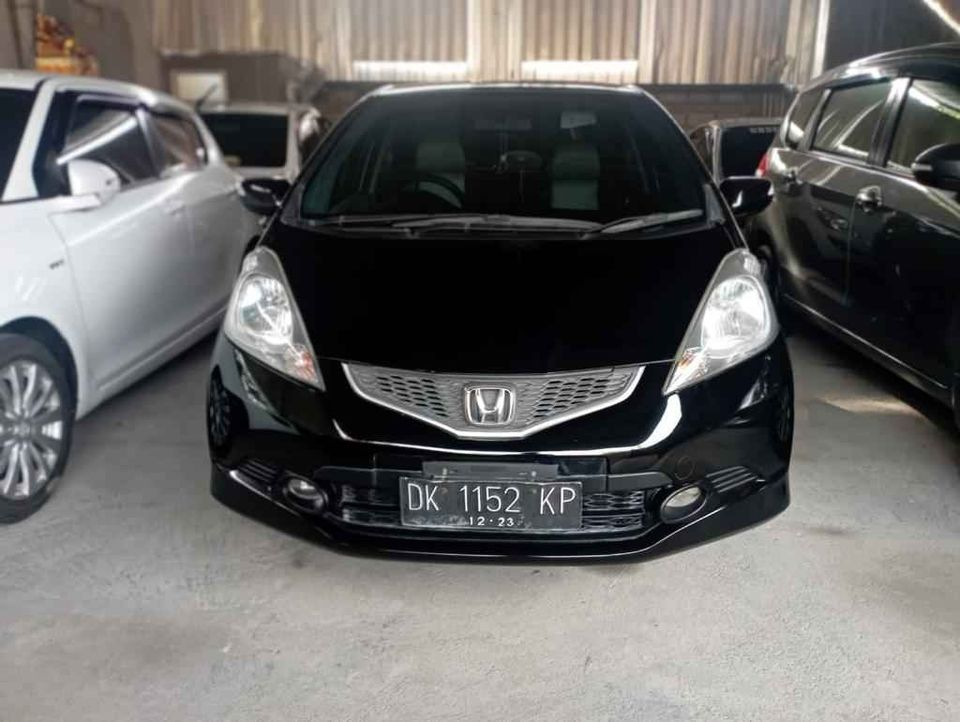plate: (393, 472, 591, 542)
